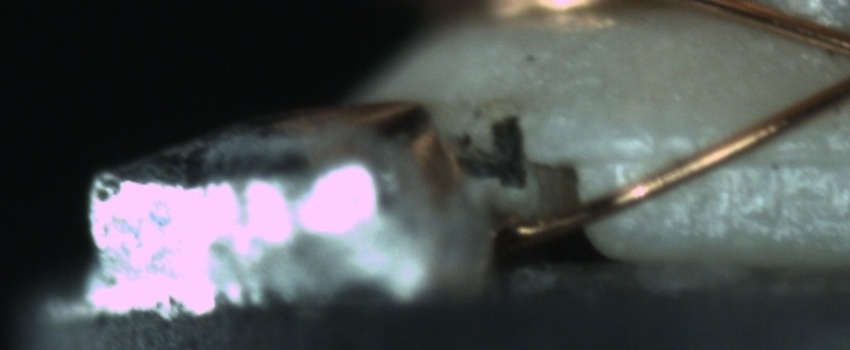DL: (611, 119, 845, 192)
